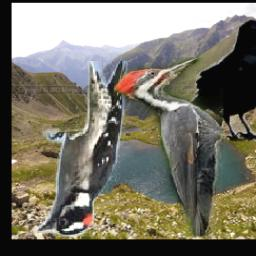Crow: (170, 18, 256, 141)
Woodpecker: (114, 57, 223, 237), (35, 61, 127, 237)
